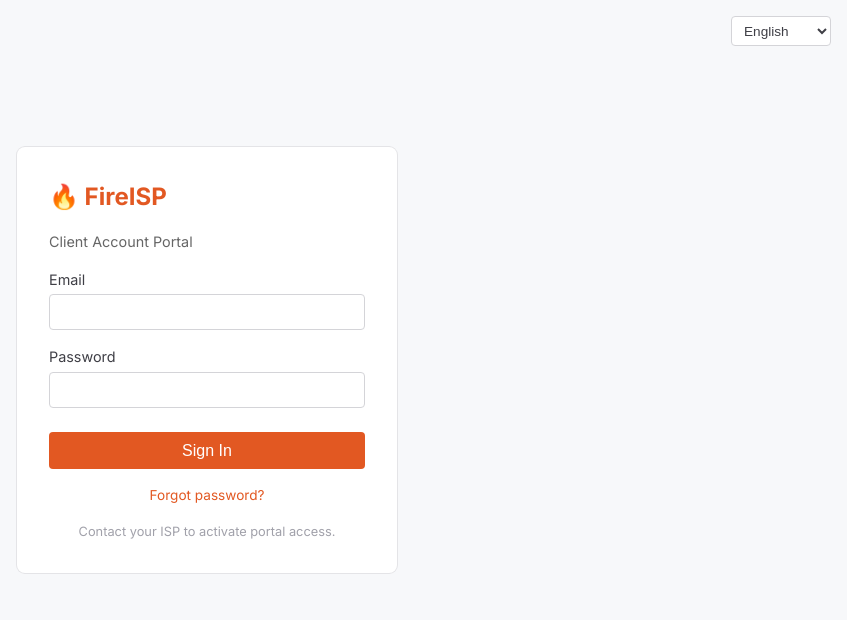
Test: PortalLogin page › shows error message on login failure
The image size is (847, 620).
In the field labelled "Email": point(207, 312) [49,294,365,330], type "bad@test.com"
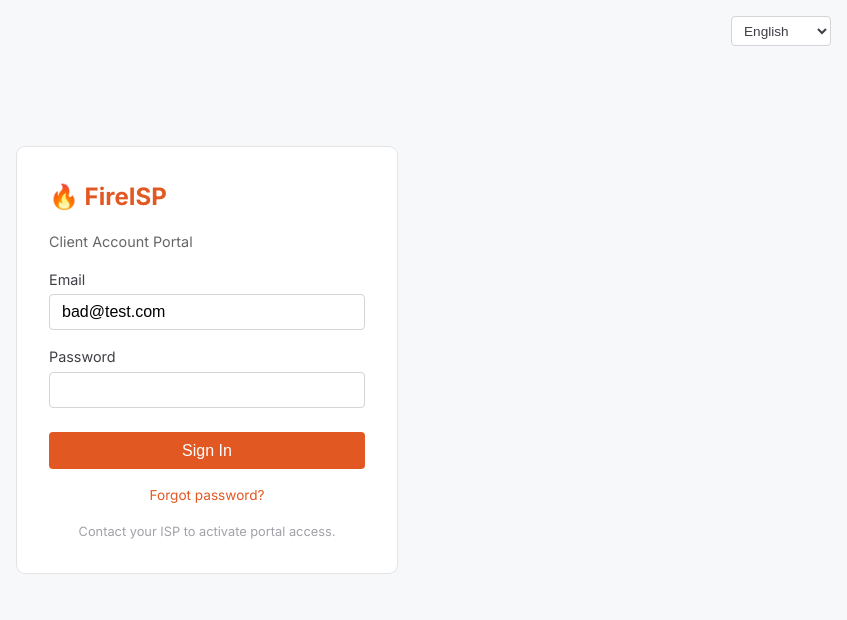
In the password field labelled "Password": point(207, 390) [49,372,365,408], type "wrong"
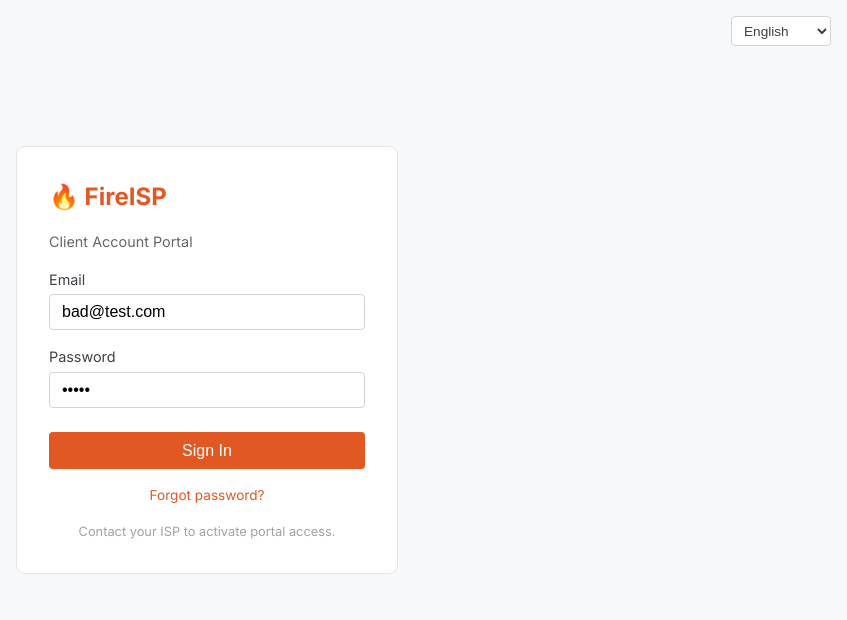
Click the button "Sign In": point(207, 451) [49,432,365,469]
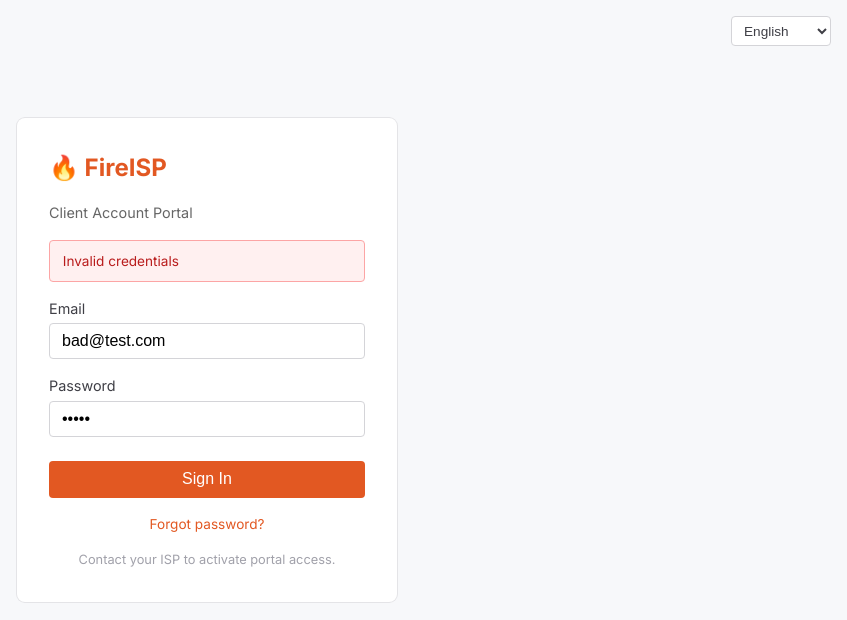
Expected: the text "Invalid credentials" is shown, [49,240,365,282]
